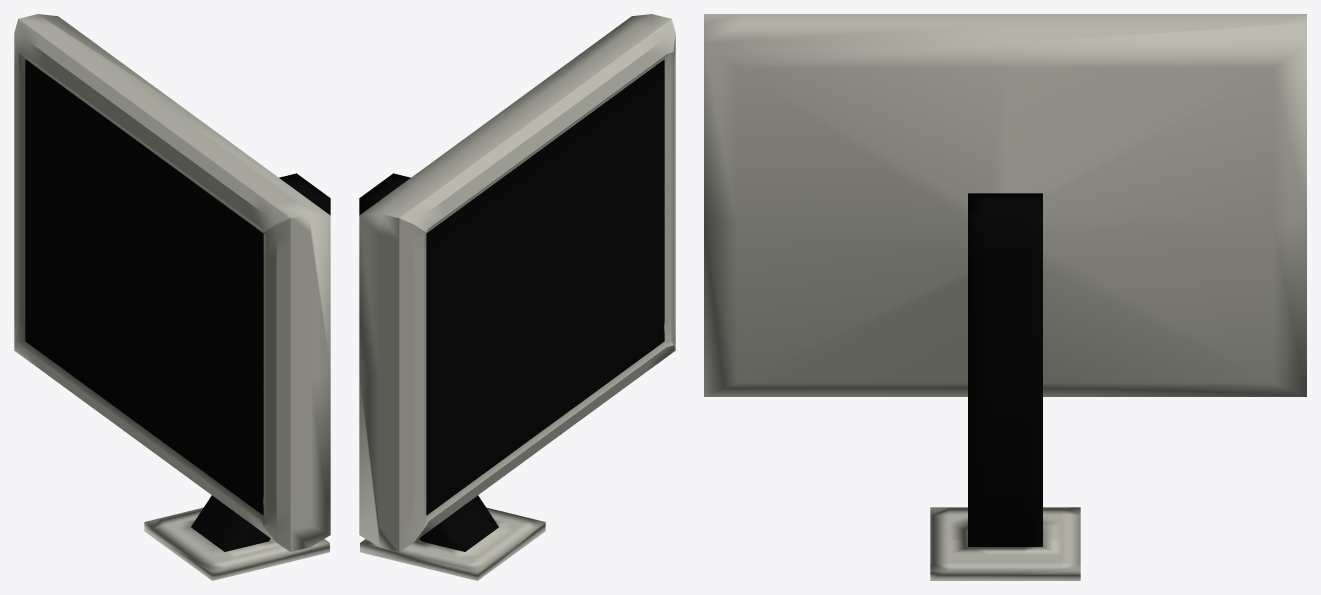
File: Monitor.fbx
3 views of the same model, side by side, from view 1: azimuth 30°, elevation 25°; view 2: azimuth 150°, elevation 25°; view 3: azimuth 270°, elevation 25° (orthographic). The views are drawn at different scales.
Visible parts, largest first — view 1: Monitor1; view 2: Monitor1; view 3: Monitor1.
Boxes of the visible parts, <box> form: Monitor1: <box>14,14,330,580</box>; Monitor1: <box>359,14,675,580</box>; Monitor1: <box>704,14,1306,580</box>.
Bounding box in the file's own units: 39.32 × 95.9 × 107.
